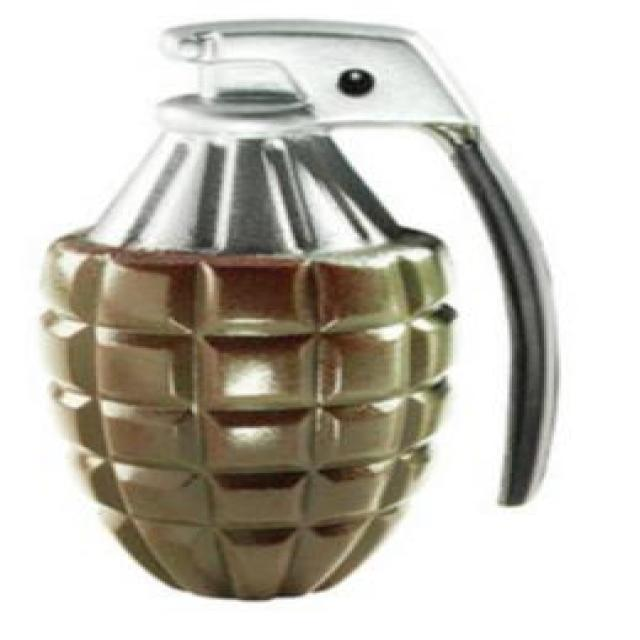grenade: (38, 20, 557, 603)
